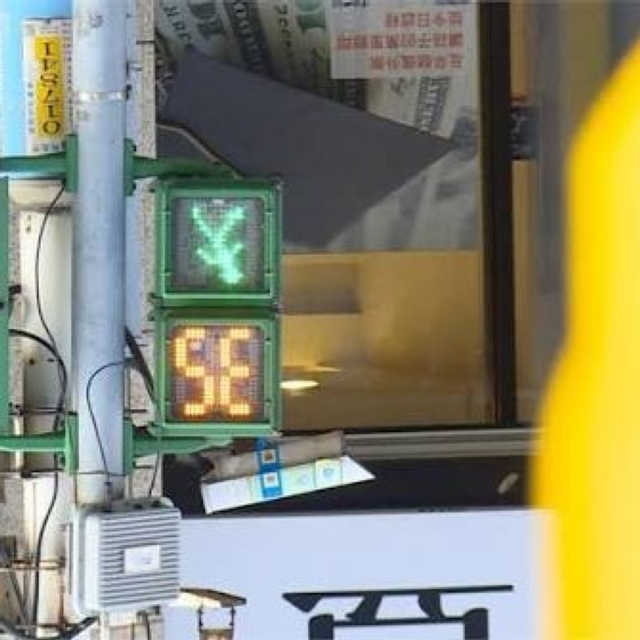green_light: (156, 180, 281, 441)
